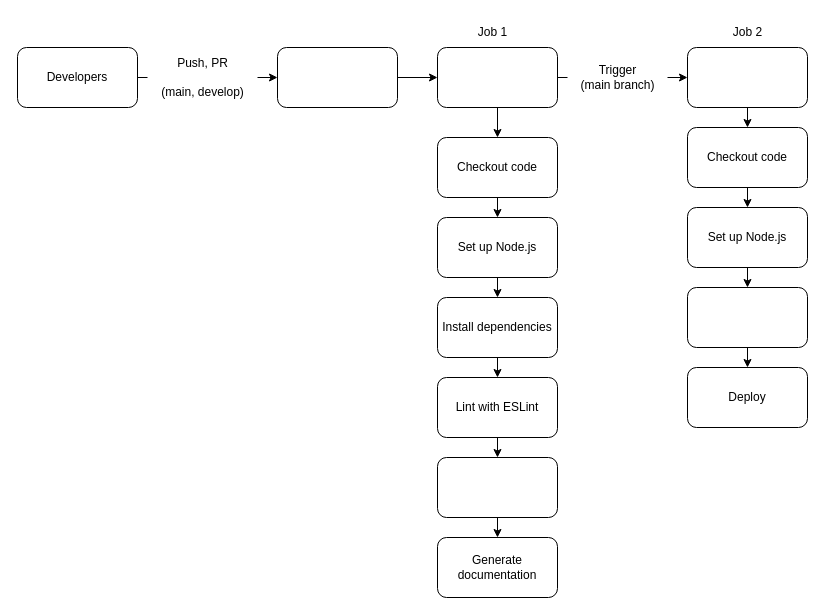
Some shapes in this 825 by 615 pixel diagram are drawn without their labels. Here are the shapes that lost their labels. From the top down, the centre of each, then its label:
point 337,77: Source Code Managment (runs on ubuntu)
point 497,77: lint-and-test
point 747,77: build-and-deploy
point 747,317: Build
point 497,487: Run unit tests
